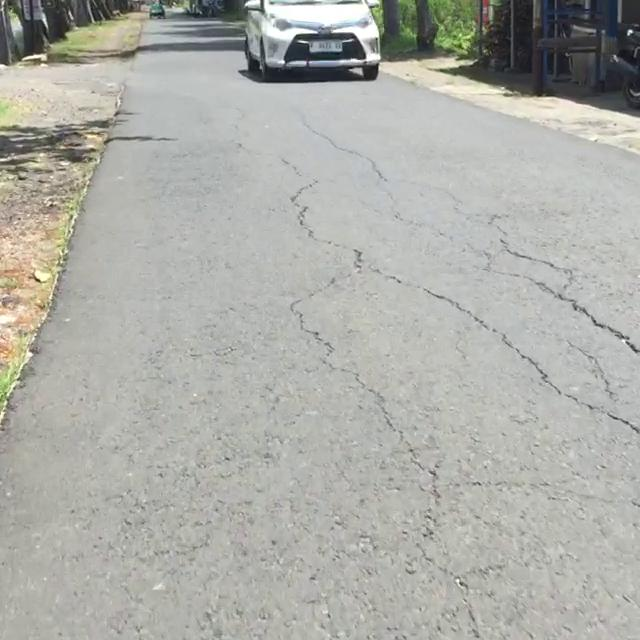retak_memanjang: (354, 355, 498, 640), (223, 130, 379, 389), (399, 267, 566, 399)
